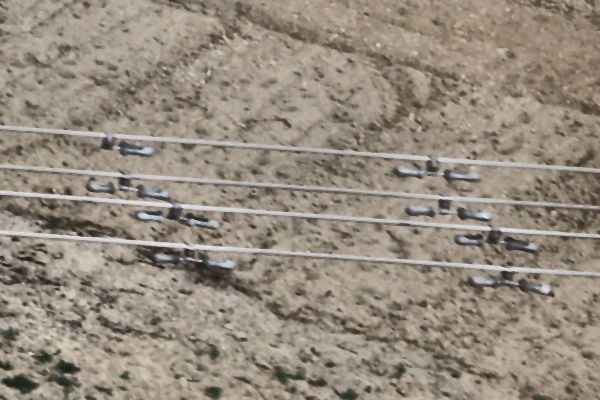damper: (465, 261, 556, 298), (82, 167, 172, 201), (389, 151, 481, 183), (403, 189, 492, 222), (452, 223, 540, 255), (149, 238, 237, 270), (132, 200, 220, 230)
damper_defect: (92, 128, 154, 158)
